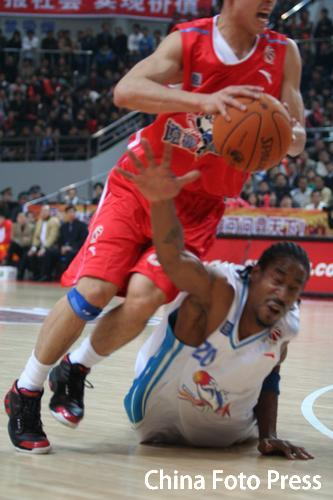10+: (1, 1, 333, 463)
down: (109, 142, 328, 463)
